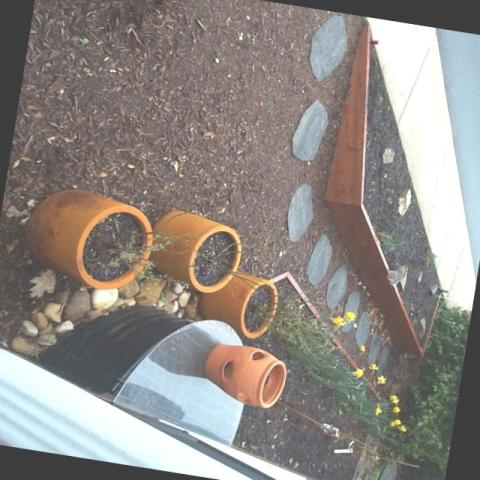small_animal: (387, 264, 410, 288)
